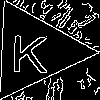K: (9, 26, 49, 73)
